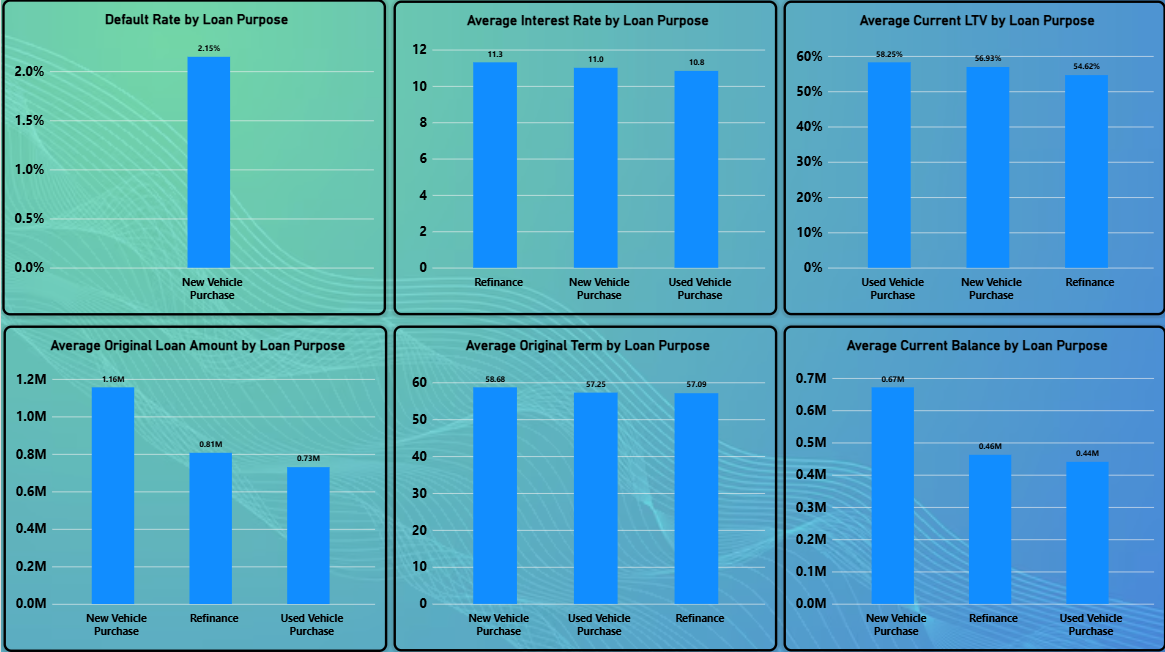

What the dashboard file says about the page in this screenshot:
{"tool":"powerbi","page":{"name":"Loan Characteristics & Delinquency","canvas":[1920,1080],"ordinal":8},"visuals":[{"type":"clusteredColumnChart","title":"Default Rate by Loan Purpose","fields":{"Category":["Loan.LoanPurpose"],"Y":["Measures (2).Default Rate"]},"box":[2.1,2.1,631.9,520.8],"z":0},{"type":"clusteredColumnChart","title":"Average Interest Rate by Loan Purpose","fields":{"Category":["Loan.LoanPurpose"],"Y":["Avg(Loan.InterestRate)"]},"box":[646.3,4.1,631.9,518.7],"z":1000},{"type":"clusteredColumnChart","title":"Average Current LTV by Loan Purpose","fields":{"Category":["Loan.LoanPurpose"],"Y":["Avg(Loan.LTV_Current)"]},"box":[1288.5,4.1,629.8,518.7],"z":2000},{"type":"clusteredColumnChart","title":"Average Original Loan Amount by Loan Purpose","fields":{"Category":["Loan.LoanPurpose"],"Y":["Avg(Loan.OriginalLoanAmount)"]},"box":[4.1,539.3,631.9,537.2],"z":3000},{"type":"clusteredColumnChart","title":"Average Original Term by Loan Purpose","fields":{"Category":["Loan.LoanPurpose"],"Y":["Avg(Loan.OriginalTerm)"]},"box":[646,539,632,537],"z":4000},{"type":"clusteredColumnChart","title":"Average Current Balance by Loan Purpose","fields":{"Category":["Loan.LoanPurpose"],"Y":["Avg(Loan.CurrentBalance)"]},"box":[1289,539,630,537],"z":5000}]}

Visuals, with their boxes in screenshot pixels (x1, y1, x2, y2), scaled from the page's 1920x1080 canvas onto the 1165x652 screenshot:
"Default Rate by Loan Purpose" clusteredColumnChart: (left=1, top=1, right=385, bottom=316)
"Average Interest Rate by Loan Purpose" clusteredColumnChart: (left=392, top=2, right=776, bottom=316)
"Average Current LTV by Loan Purpose" clusteredColumnChart: (left=782, top=2, right=1164, bottom=316)
"Average Original Loan Amount by Loan Purpose" clusteredColumnChart: (left=2, top=326, right=386, bottom=650)
"Average Original Term by Loan Purpose" clusteredColumnChart: (left=392, top=325, right=775, bottom=650)
"Average Current Balance by Loan Purpose" clusteredColumnChart: (left=782, top=325, right=1164, bottom=650)
